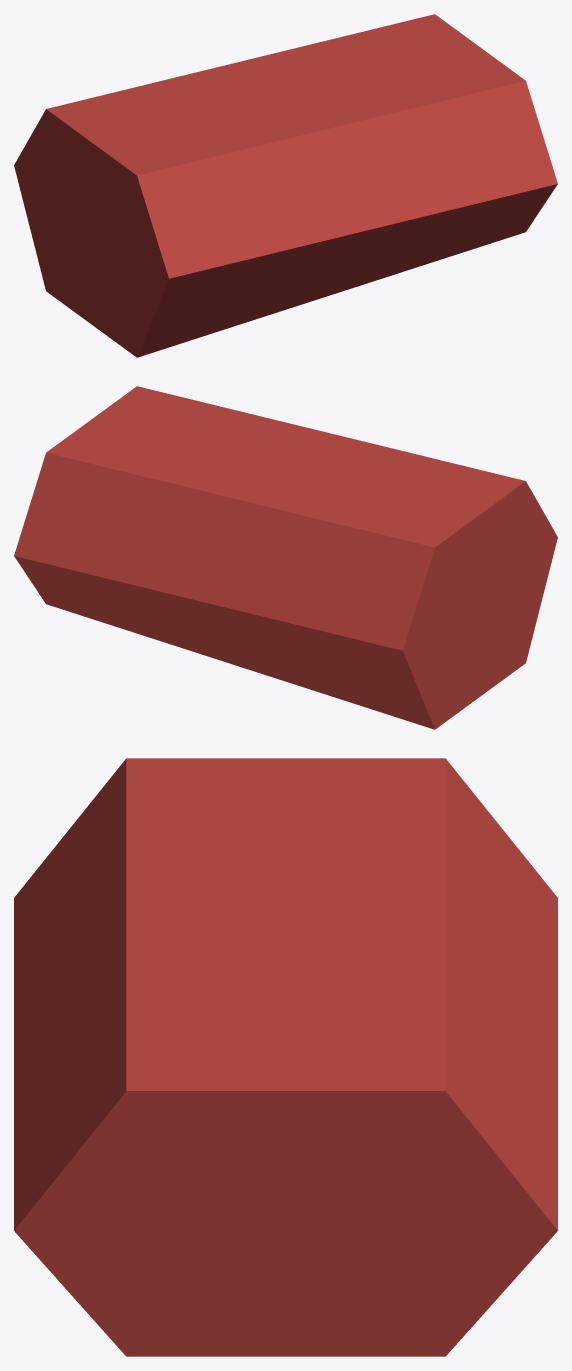
Rendered from rear_tank_lod2.glb.
3 renders of one model, top to bottom at view 1: azimuth 30°, elevation 25°; view 2: azimuth 150°, elevation 25°; view 3: azimuth 270°, elevation 25°, orthographic. The views are drawn at different scales.
Parts seen in each view (by area): view 1: rear_tank_lod2; view 2: rear_tank_lod2; view 3: rear_tank_lod2.
Part boxes in pixels (x1,y1,x2,y2): rear_tank_lod2: [14, 14, 557, 357]; rear_tank_lod2: [14, 386, 557, 729]; rear_tank_lod2: [14, 758, 557, 1356].
Bounding box in the file's own units: 0.32 × 0.1432 × 0.221.
